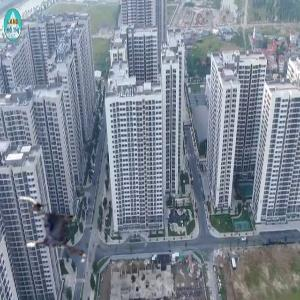drone: (8, 185, 99, 276)
